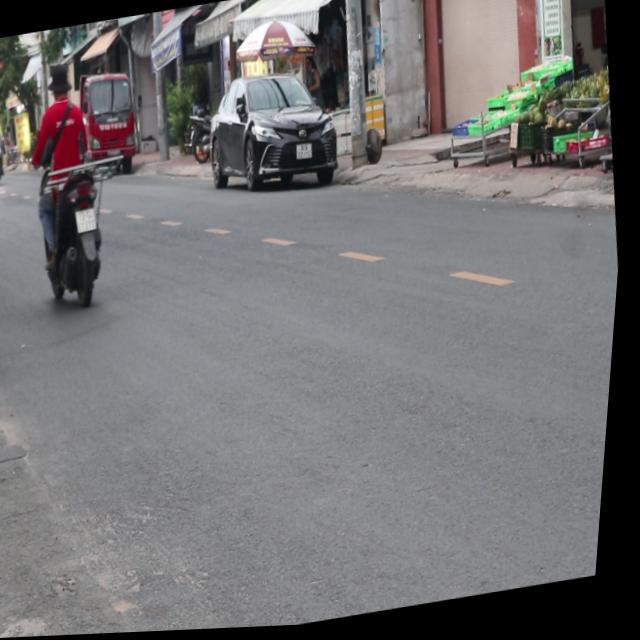licenseplate: (15, 53, 127, 312)
motorcyclist: (46, 59, 75, 102)
nohelmet: (77, 207, 101, 231)
